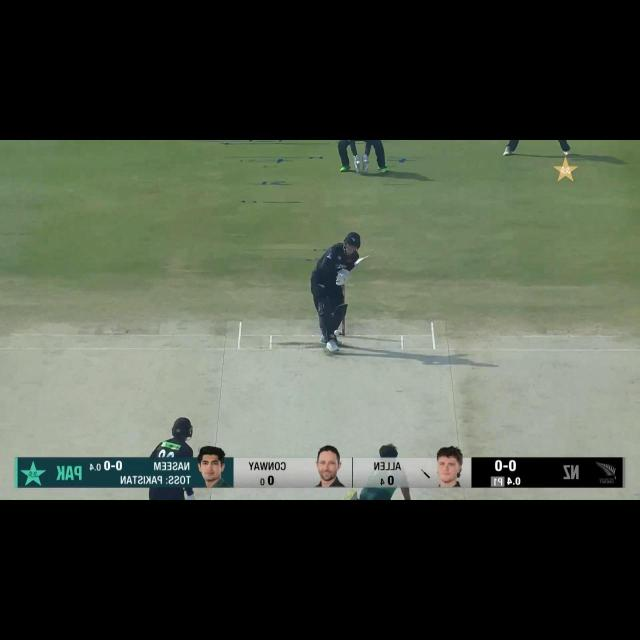bat: (351, 254, 371, 269)
toe: (363, 253, 372, 260)
